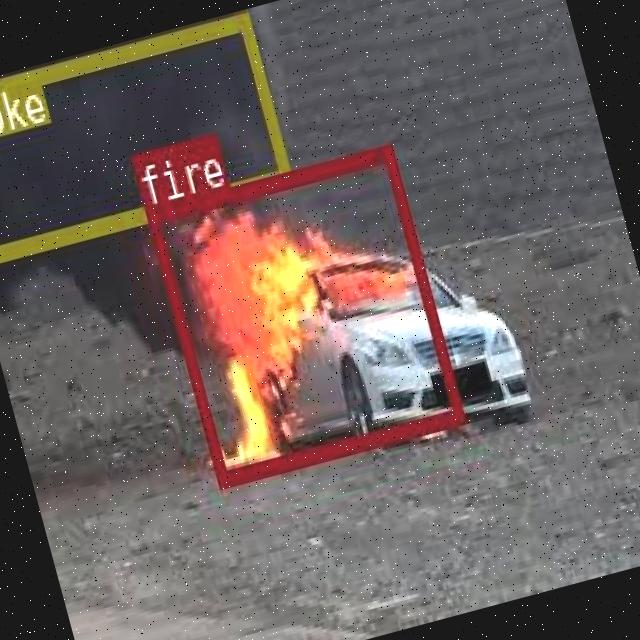fire: (143, 142, 461, 484)
smoke: (0, 10, 289, 265)
